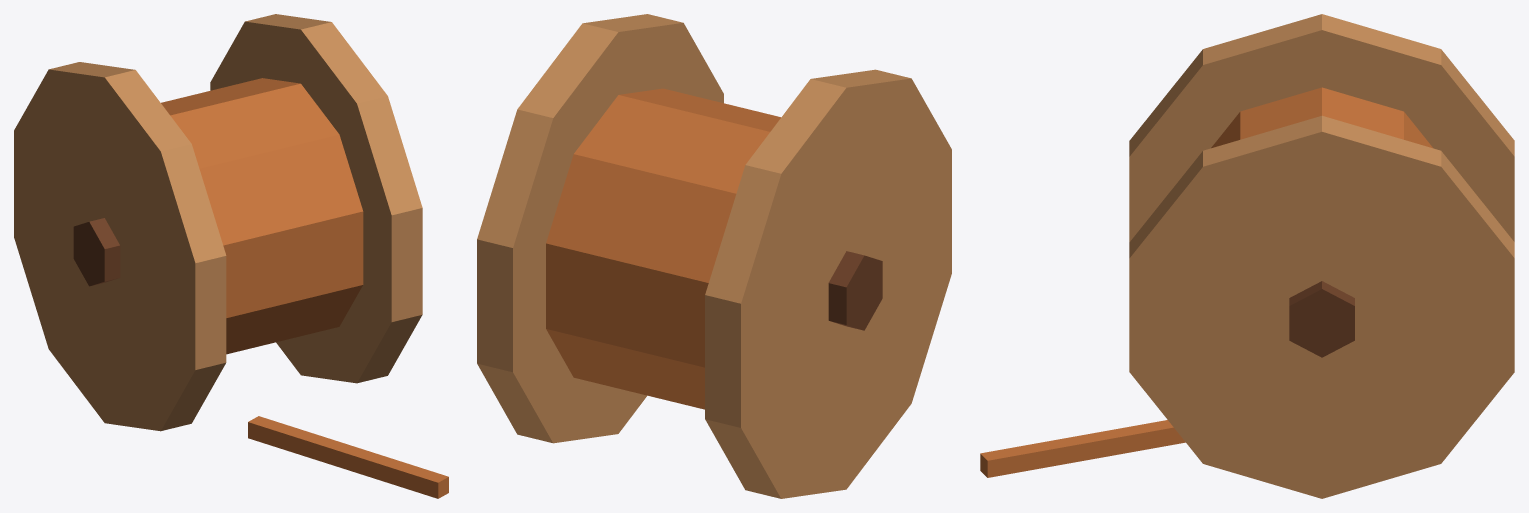
File: a-cable-spool.glb
3 views of the same model, side by side, from view 1: azimuth 30°, elevation 25°; view 2: azimuth 150°, elevation 25°; view 3: azimuth 270°, elevation 25° (orthographic). The views are drawn at different scales.
Visible parts, largest first — view 1: a-cable-spool; view 2: a-cable-spool; view 3: a-cable-spool.
Part boxes in pixels (x1=…): a-cable-spool: x1=14, y1=14, x2=448, y2=498; a-cable-spool: x1=477, y1=14, x2=951, y2=498; a-cable-spool: x1=980, y1=14, x2=1514, y2=498.
Size of the model in its own units: 0.5 by 0.64 by 0.8444.
